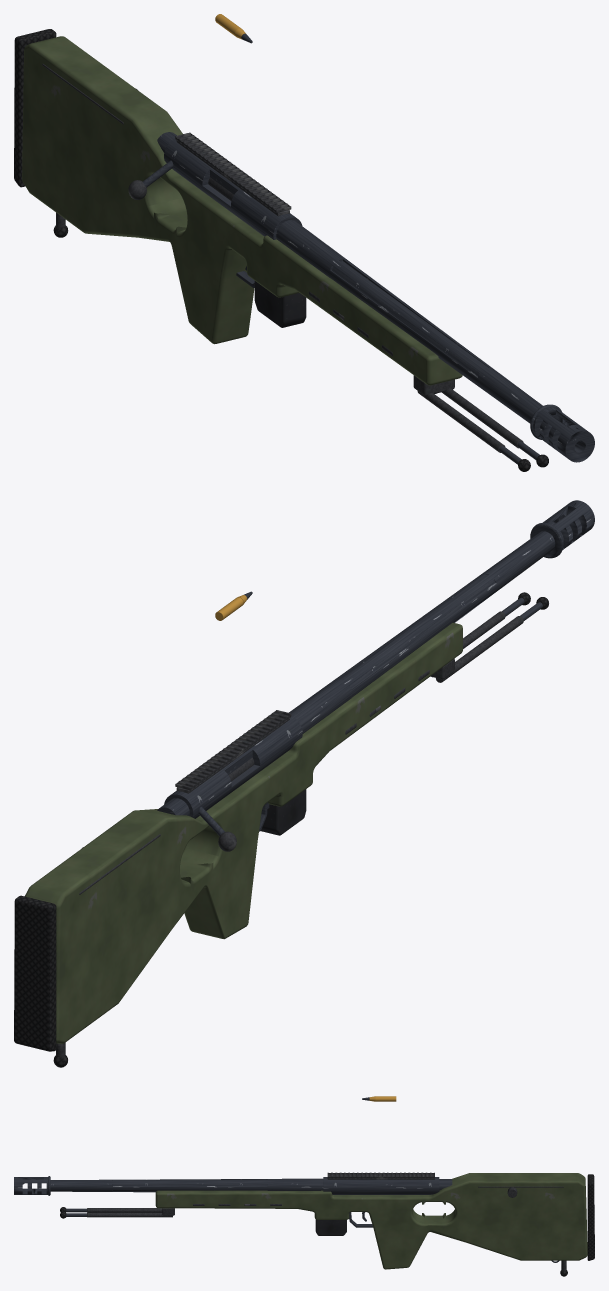
Rendered from gun_bolt.glb.
The picture shows the model from 3 angles, top to bottom: view 1: azimuth 30°, elevation 25°; view 2: azimuth 150°, elevation 25°; view 3: azimuth 270°, elevation 25°; orthographic projection. The views are drawn at different scales.
Parts seen in each view (by area): view 1: gun_bolt, bolt; view 2: gun_bolt, bolt; view 3: gun_bolt.
Boxes of the visible parts, x1=… form: gun_bolt: x1=14, y1=29, x2=594, y2=471; bolt: x1=128, y1=132, x2=233, y2=200; gun_bolt: x1=14, y1=500, x2=594, y2=1067; bolt: x1=157, y1=757, x2=254, y2=851; gun_bolt: x1=14, y1=1172, x2=594, y2=1276.
Size of the model in its own units: 0.1145 by 0.4612 by 1.35.
Materials: 6 (5 with a texture image).
